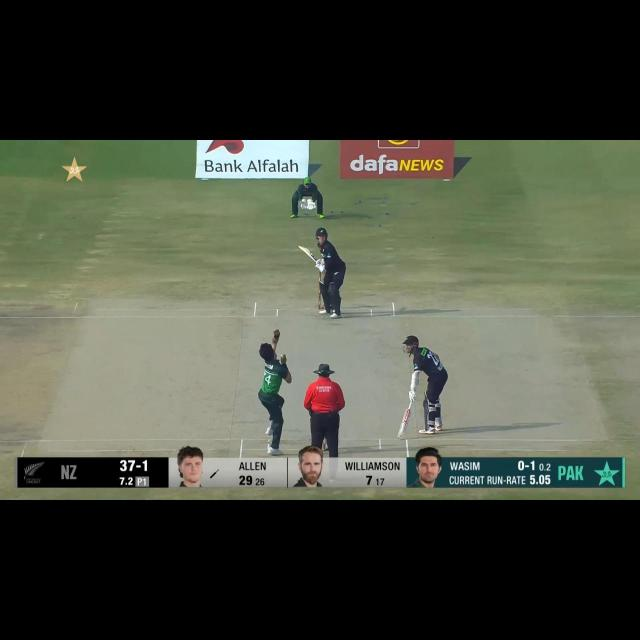bat: (398, 409, 412, 440), (298, 245, 316, 262)
toe: (396, 433, 406, 440), (298, 244, 304, 252)
